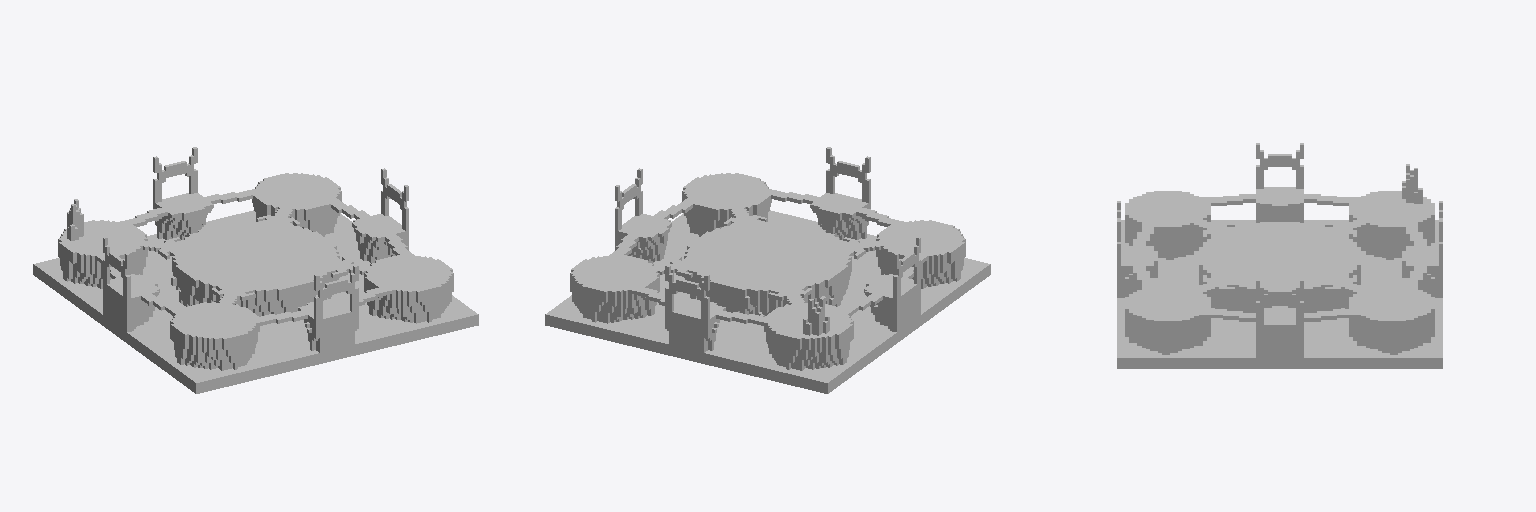
The model's file is flying swamp.obj.
3 renders of one model, left to right at view 1: azimuth 30°, elevation 25°; view 2: azimuth 150°, elevation 25°; view 3: azimuth 270°, elevation 25°, orthographic.
Parts seen in each view (by area): view 1: object 1; view 2: object 1; view 3: object 1.
Part boxes in pixels (left/top/right/bottom): object 1: left=33, top=147, right=478, bottom=393; object 1: left=545, top=147, right=990, bottom=393; object 1: left=1117, top=143, right=1442, bottom=368.
Size of the model in its own units: 8 by 2.4 by 8.